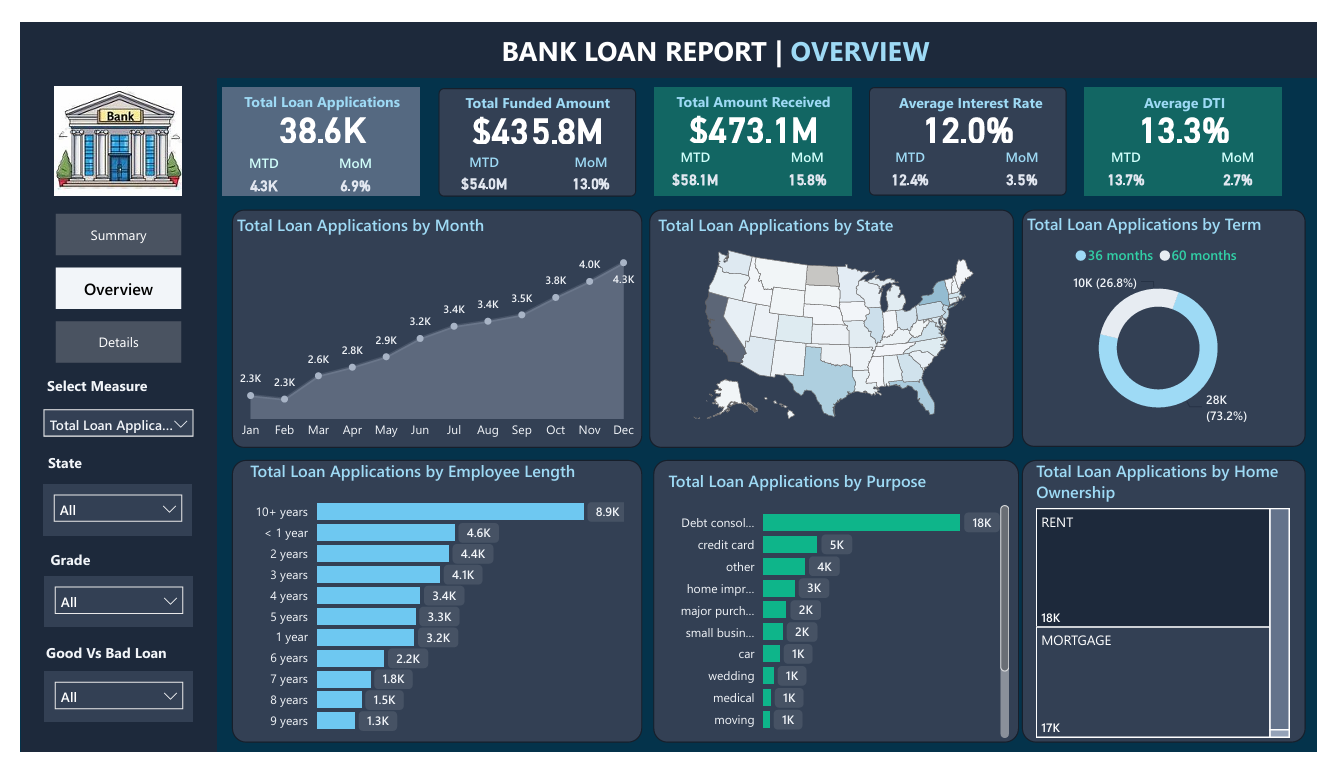

The dashboard page shown, as its layout file describes it:
{"tool":"powerbi","page":{"name":"Overview","canvas":[1280,720],"ordinal":1},"visuals":[{"type":"shape","box":[0,0,1280,55],"z":0},{"type":"shape","box":[1.2,55,192.5,665],"z":1000},{"type":"shape","box":[200.3,63.9,195.4,107.4],"z":1000,"group":"g1"},{"type":"shape","box":[625.5,63.9,195.4,107.4],"z":1000,"group":"g3"},{"type":"shape","box":[838.2,63.9,195.4,107.4],"z":1000,"group":"g4"},{"type":"shape","box":[1050.8,63.9,195.4,107.4],"z":1000,"group":"g5"},{"type":"shape","box":[412.9,65.1,195.4,107.4],"z":1000,"group":"g2"},{"type":"textbox","box":[434.9,3.9,503.1,47.6],"z":2000},{"type":"group","id":"g1","title":"Group 1","box":[200.3,63.9,195.4,107.4],"z":3000},{"type":"group","id":"g2","title":"Group 1","box":[412.9,65.1,195.4,107.4],"z":4000},{"type":"card","fields":{"Values":["bank_loan_data.Total Loan Applications"]},"box":[226.8,83.2,142.4,41],"z":4000,"group":"g1"},{"type":"card","fields":{"Values":["bank_loan_data.Total Amount Recieved"]},"box":[652,83.2,142.4,41],"z":4000,"group":"g3"},{"type":"card","fields":{"Values":["bank_loan_data.Average Interest Rate"]},"box":[864.7,83.2,142.4,41],"z":4000,"group":"g4"},{"type":"card","fields":{"Values":["bank_loan_data.Average DTI"]},"box":[1077.3,83.2,142.4,41],"z":4000,"group":"g5"},{"type":"card","fields":{"Values":["bank_loan_data.Total Funded Amount"]},"box":[439.4,84.4,142.4,41],"z":4000,"group":"g2"},{"type":"textbox","box":[208.7,63.9,179.8,38.6],"z":5000,"group":"g1"},{"type":"textbox","box":[633.9,63.9,179.8,38.6],"z":5000,"group":"g3"},{"type":"textbox","box":[421.3,65.1,179.8,38.6],"z":5000,"group":"g2"},{"type":"textbox","box":[850.8,65.3,175,45],"z":5000,"group":"g4"},{"type":"textbox","box":[1060.1,65.3,178.9,45],"z":5000,"group":"g5"},{"type":"shape","box":[208.7,184.6,405,235],"z":5000},{"type":"group","id":"g3","title":"Group 1","box":[625.5,63.9,195.4,107.4],"z":6000},{"type":"card","title":"MTD","fields":{"Values":["bank_loan_data.MTD Total Amount Recieved"]},"box":[634.8,124,62.7,47.1],"z":6000,"group":"g3"},{"type":"card","title":"MTD","fields":{"Values":["bank_loan_data.MTD Average Interest Rate"]},"box":[847.5,124,62.7,47.1],"z":6000,"group":"g4"},{"type":"card","title":"MTD","fields":{"Values":["bank_loan_data.MTD Average DTI"]},"box":[1060.1,124,62.7,47.1],"z":6000,"group":"g5"},{"type":"card","title":"MTD","fields":{"Values":["bank_loan_data.MTD Funded Amount"]},"box":[416.9,129.2,82.3,42.5],"z":6000,"group":"g2"},{"type":"card","title":"MTD","fields":{"Values":["bank_loan_data.MTD Loan Applivations"]},"box":[209,129.6,63,41.2],"z":6000,"group":"g1"},{"type":"group","id":"g4","title":"Group 1","box":[838.2,63.9,195.4,107.4],"z":7000},{"type":"card","title":"MoM","fields":{"Values":["bank_loan_data.MoM Total Amount Recieved"]},"box":[748.2,124,56.7,47.1],"z":7000,"group":"g3"},{"type":"card","title":"MoM","fields":{"Values":["bank_loan_data.MoM Average Interest Rate"]},"box":[960.9,124,56.7,47.1],"z":7000,"group":"g4"},{"type":"card","title":"MoM","fields":{"Values":["bank_loan_data.MoM Average DTI"]},"box":[1173.5,124,56.7,47.1],"z":7000,"group":"g5"},{"type":"card","title":"MoM","fields":{"Values":["bank_loan_data.MoM Total Funded Amount"]},"box":[521.1,129.2,84.9,42.5],"z":7000,"group":"g2"},{"type":"card","title":"MoM","fields":{"Values":["bank_loan_data.MoM Loan Applications"]},"box":[293.9,129.6,74.6,41.2],"z":7000,"group":"g1"},{"type":"group","id":"g5","title":"Group 1","box":[1050.8,63.9,195.4,107.4],"z":8000},{"type":"slicer","fields":{"Values":["bank_loan_data.address_state"]},"box":[22.9,456,147.2,50.7],"z":9000},{"type":"textbox","box":[0,419.8,88.1,30.2],"z":10000},{"type":"slicer","fields":{"Values":["bank_loan_data.grade"]},"box":[24.1,546.5,147.2,50.7],"z":11000},{"type":"textbox","box":[1.2,516.4,96.5,30.2],"z":12000},{"type":"slicer","fields":{"Values":["bank_loan_data.Good Vs Bad Loan"]},"box":[23.8,641.2,147.5,50],"z":13000},{"type":"textbox","box":[0,608,170.1,29],"z":14000},{"type":"areaChart","fields":{"Y":["bank_loan_data.Total Loan Applications"],"Category":["Date Table.Month"]},"box":[208.8,188.8,405,231.2],"z":15000},{"type":"slicer","fields":{"Values":["Select measure.Select measure"]},"box":[13.3,371.6,167.7,48.3],"z":16000},{"type":"textbox","box":[0,343.8,152,30.2],"z":17000},{"type":"shape","box":[621.2,185,360,235],"z":18000},{"type":"shapeMap","fields":{"Value":["bank_loan_data.Total Loan Applications"],"Category":["bank_loan_data.address_state"]},"box":[625,188.8,356.2,216.2],"z":19000},{"type":"shape","box":[989.3,184.6,279.9,234],"z":20000},{"type":"donutChart","fields":{"Y":["bank_loan_data.Total Loan Applications"],"Category":["bank_loan_data.term"]},"box":[989.3,188.2,269,216],"z":21000},{"type":"shape","box":[208.7,431.9,405.4,278.7],"z":22000},{"type":"barChart","fields":{"Y":["bank_loan_data.Total Loan Applications"],"Category":["bank_loan_data.emp_length"]},"box":[222,431.9,378.8,278.7],"z":23000},{"type":"shape","box":[624.9,431.9,360.7,278.7],"z":24000},{"type":"barChart","fields":{"Y":["bank_loan_data.Total Loan Applications"],"Category":["bank_loan_data.purpose"]},"box":[634.6,441.6,346.2,269],"z":25000},{"type":"shape","box":[989.3,431.9,279.9,278.7],"z":26000},{"type":"treemap","fields":{"Values":["bank_loan_data.Total Loan Applications"],"Group":["bank_loan_data.home_ownership"]},"box":[997.7,431.9,260.6,278.7],"z":27000},{"type":"pageNavigator","box":[33.8,188.2,126.7,150.8],"z":27001},{"type":"image","box":[33.8,55.5,126.7,123.1],"z":27002}]}

Visuals, with their boxes on the page's 1280x720 design canvas (x1, y1, x2, y2). These are canvas units, not pixel positions in the 1335x775 screenshot, which may show the page scaled, cropped or inside an application window:
shape: BBox(0, 0, 1280, 55)
shape: BBox(1, 55, 194, 720)
shape: BBox(200, 64, 396, 171)
shape: BBox(626, 64, 821, 171)
shape: BBox(838, 64, 1034, 171)
shape: BBox(1051, 64, 1246, 171)
shape: BBox(413, 65, 608, 172)
textbox: BBox(435, 4, 938, 52)
"Group 1" group: BBox(200, 64, 396, 171)
"Group 1" group: BBox(413, 65, 608, 172)
card - bank_loan_data.Total Loan Applications: BBox(227, 83, 369, 124)
card - bank_loan_data.Total Amount Recieved: BBox(652, 83, 794, 124)
card - bank_loan_data.Average Interest Rate: BBox(865, 83, 1007, 124)
card - bank_loan_data.Average DTI: BBox(1077, 83, 1220, 124)
card - bank_loan_data.Total Funded Amount: BBox(439, 84, 582, 125)
textbox: BBox(209, 64, 388, 102)
textbox: BBox(634, 64, 814, 102)
textbox: BBox(421, 65, 601, 104)
textbox: BBox(851, 65, 1026, 110)
textbox: BBox(1060, 65, 1239, 110)
shape: BBox(209, 185, 614, 420)
"Group 1" group: BBox(626, 64, 821, 171)
"MTD" card: BBox(635, 124, 698, 171)
"MTD" card: BBox(848, 124, 910, 171)
"MTD" card: BBox(1060, 124, 1123, 171)
"MTD" card: BBox(417, 129, 499, 172)
"MTD" card: BBox(209, 130, 272, 171)
"Group 1" group: BBox(838, 64, 1034, 171)
"MoM" card: BBox(748, 124, 805, 171)
"MoM" card: BBox(961, 124, 1018, 171)
"MoM" card: BBox(1174, 124, 1230, 171)
"MoM" card: BBox(521, 129, 606, 172)
"MoM" card: BBox(294, 130, 368, 171)
"Group 1" group: BBox(1051, 64, 1246, 171)
slicer - bank_loan_data.address_state: BBox(23, 456, 170, 507)
textbox: BBox(0, 420, 88, 450)
slicer - bank_loan_data.grade: BBox(24, 546, 171, 597)
textbox: BBox(1, 516, 98, 547)
slicer - bank_loan_data.Good Vs Bad Loan: BBox(24, 641, 171, 691)
textbox: BBox(0, 608, 170, 637)
areaChart - bank_loan_data.Total Loan Applications x Date Table.Month: BBox(209, 189, 614, 420)
slicer - Select measure.Select measure: BBox(13, 372, 181, 420)
textbox: BBox(0, 344, 152, 374)
shape: BBox(621, 185, 981, 420)
shapeMap - bank_loan_data.Total Loan Applications x bank_loan_data.address_state: BBox(625, 189, 981, 405)
shape: BBox(989, 185, 1269, 419)
donutChart - bank_loan_data.Total Loan Applications x bank_loan_data.term: BBox(989, 188, 1258, 404)
shape: BBox(209, 432, 614, 711)
barChart - bank_loan_data.Total Loan Applications x bank_loan_data.emp_length: BBox(222, 432, 601, 711)
shape: BBox(625, 432, 986, 711)
barChart - bank_loan_data.Total Loan Applications x bank_loan_data.purpose: BBox(635, 442, 981, 711)
shape: BBox(989, 432, 1269, 711)
treemap - bank_loan_data.Total Loan Applications x bank_loan_data.home_ownership: BBox(998, 432, 1258, 711)
pageNavigator: BBox(34, 188, 160, 339)
image: BBox(34, 56, 160, 179)
